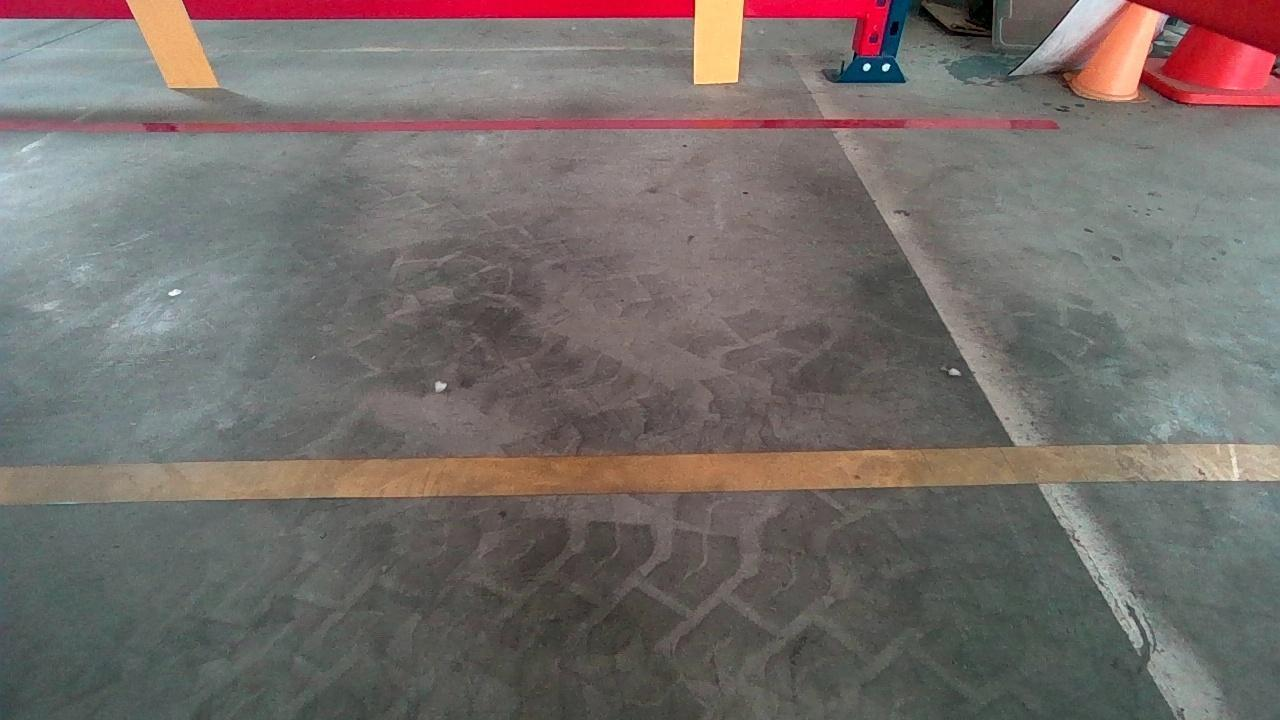red_line: (6, 111, 1036, 141)
yellow_line: (0, 439, 1275, 507)
